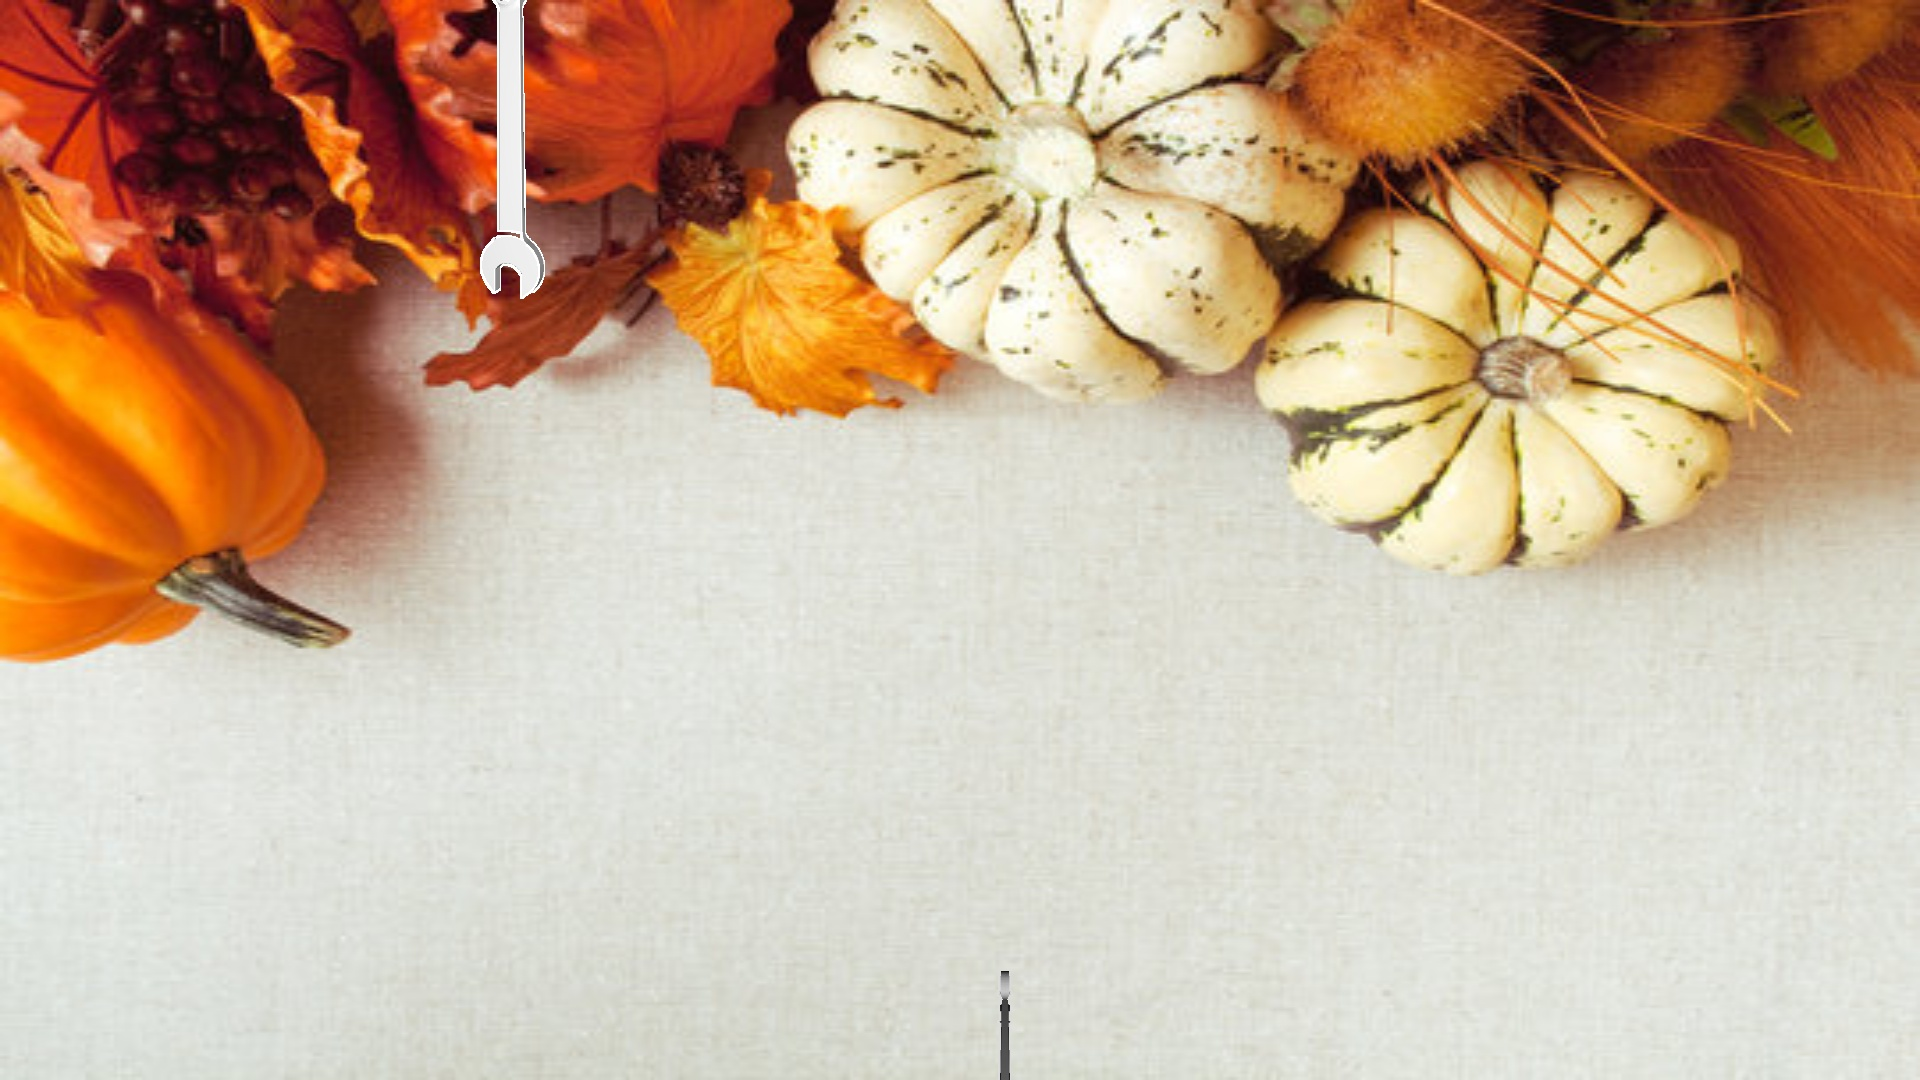Mixed Key: (338, 345, 819, 613), (705, 311, 913, 802), (843, 0, 1062, 274), (480, 0, 545, 298), (1547, 264, 1578, 572), (997, 971, 1011, 1079)
